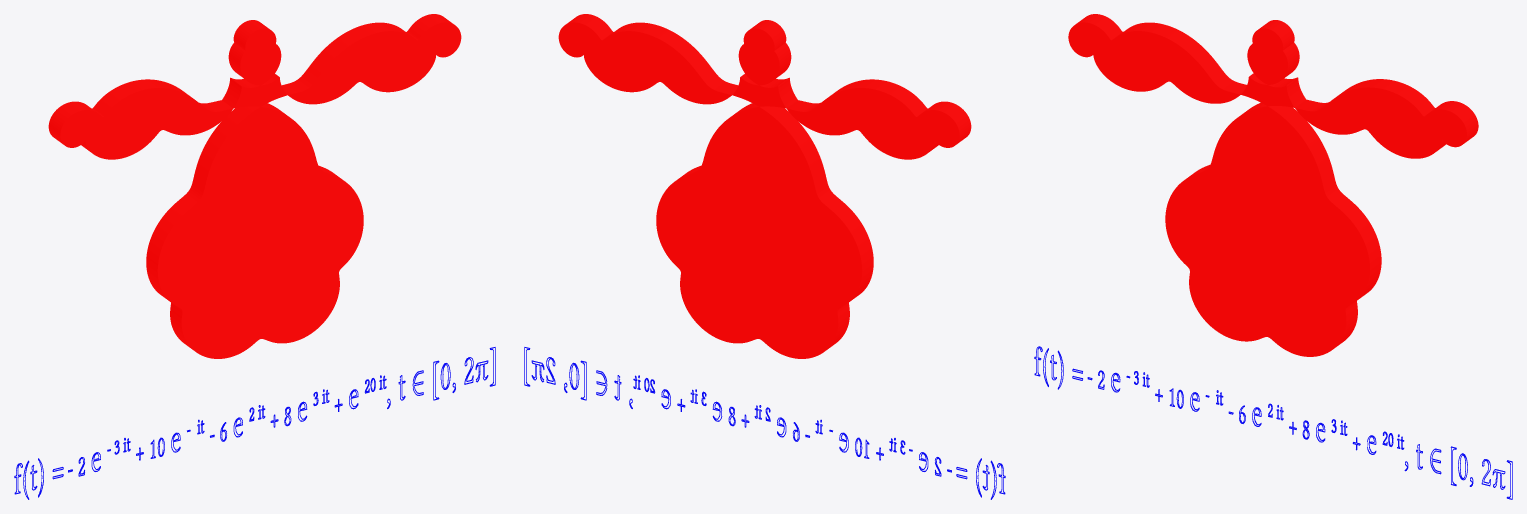
File: SimpleBeauty31.glb
3 views of the same model, side by side, from view 1: azimuth 30°, elevation 25°; view 2: azimuth 150°, elevation 25°; view 3: azimuth 330°, elevation 25° (orthographic).
Size of the model in its own units: 1.2 by 1 by 0.05.
